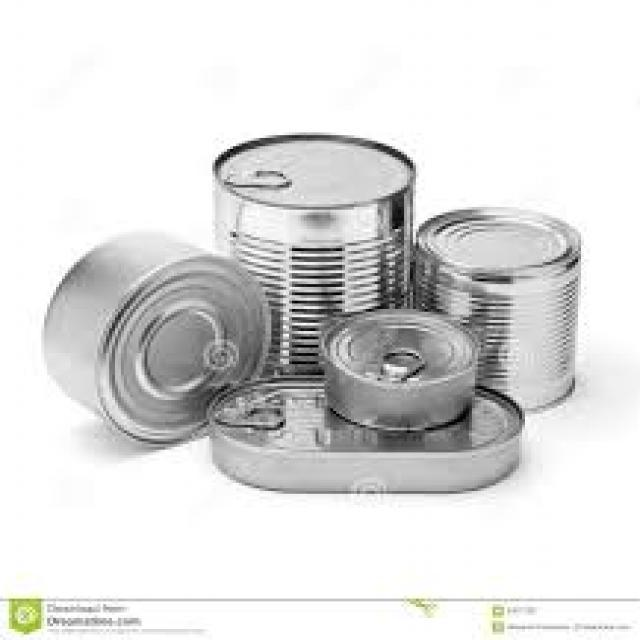recyclable: (210, 130, 422, 385), (40, 225, 273, 448), (205, 372, 527, 493), (408, 204, 586, 418), (320, 306, 482, 432)
